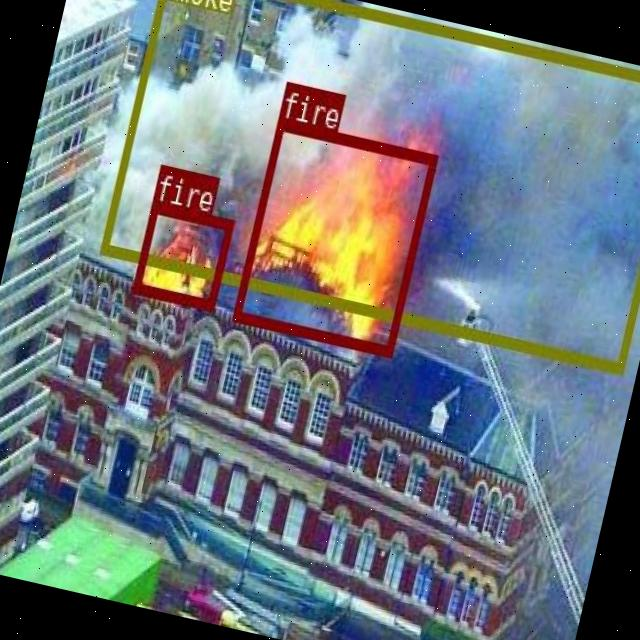fire: (232, 118, 436, 354), (130, 200, 233, 310)
smoke: (98, 0, 640, 371)
